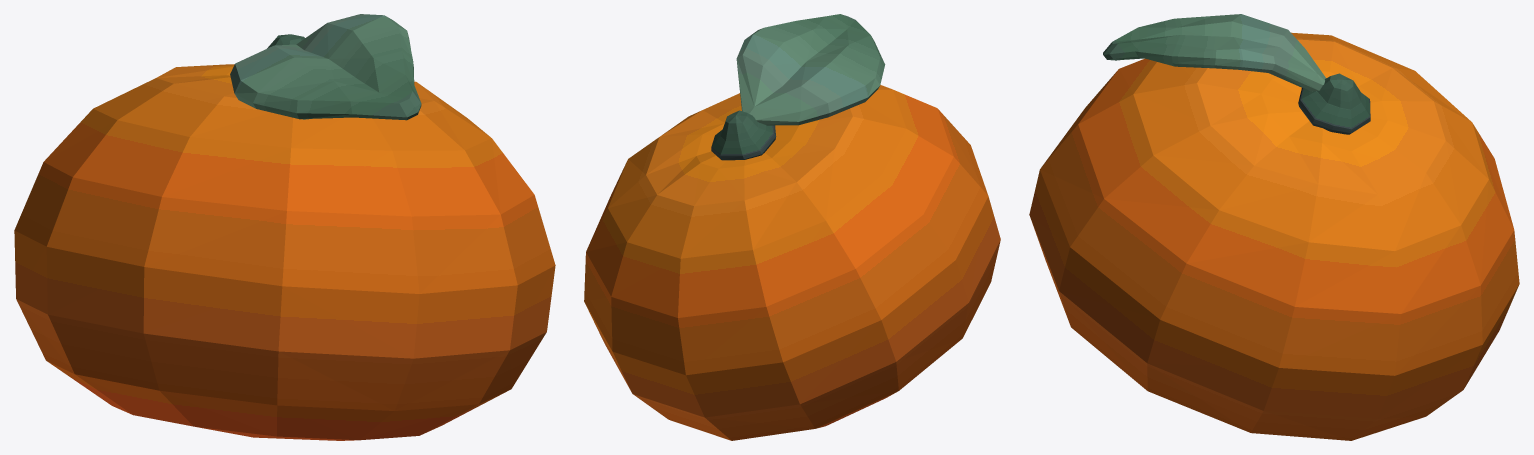
The model's file is CharSkyKid_Horn_Orange.glb.
The picture shows the model from 3 angles, left to right: view 1: azimuth 30°, elevation 25°; view 2: azimuth 150°, elevation 25°; view 3: azimuth 270°, elevation 25°; orthographic projection. The views are drawn at different scales.
Parts seen in each view (by area): view 1: CharSkyKid_Horn_Orange; view 2: CharSkyKid_Horn_Orange; view 3: CharSkyKid_Horn_Orange.
Boxes of the visible parts, x1,y1,x2,y2 form: CharSkyKid_Horn_Orange: (14,14,555,440); CharSkyKid_Horn_Orange: (584,14,1000,440); CharSkyKid_Horn_Orange: (1029,14,1519,440).
Bounding box in the file's own units: 1.38 × 1.22 × 1.43.
1 material, 1 textured.
